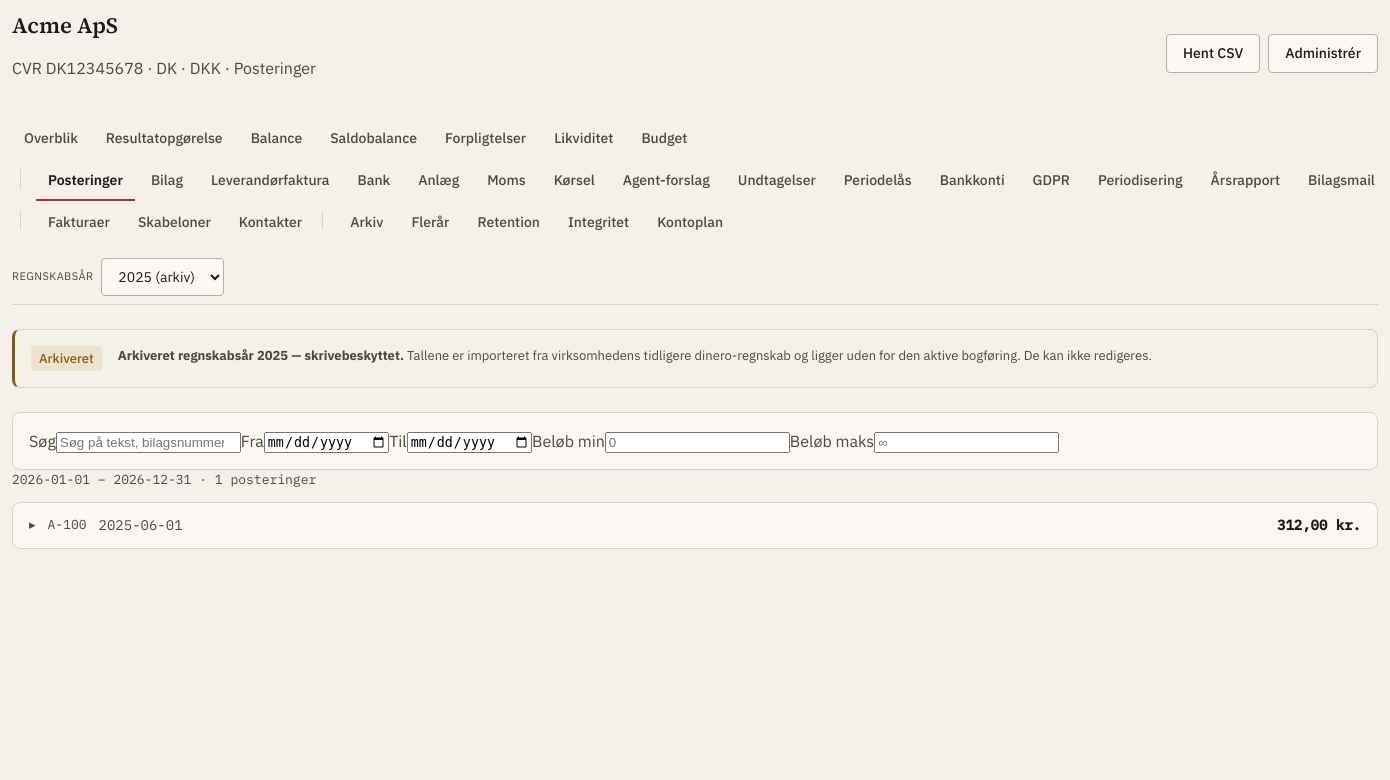
Test case: JournalView — #396 filter-bar › #379 — arkiveret år crasher ikke og viser 'Intet bilag' selv hvis documentId er sat
The image size is (1390, 780).
Click the button named "Arkiveret bilag" at {"x": 67, "y": 525}, box [13,503,1377,548]
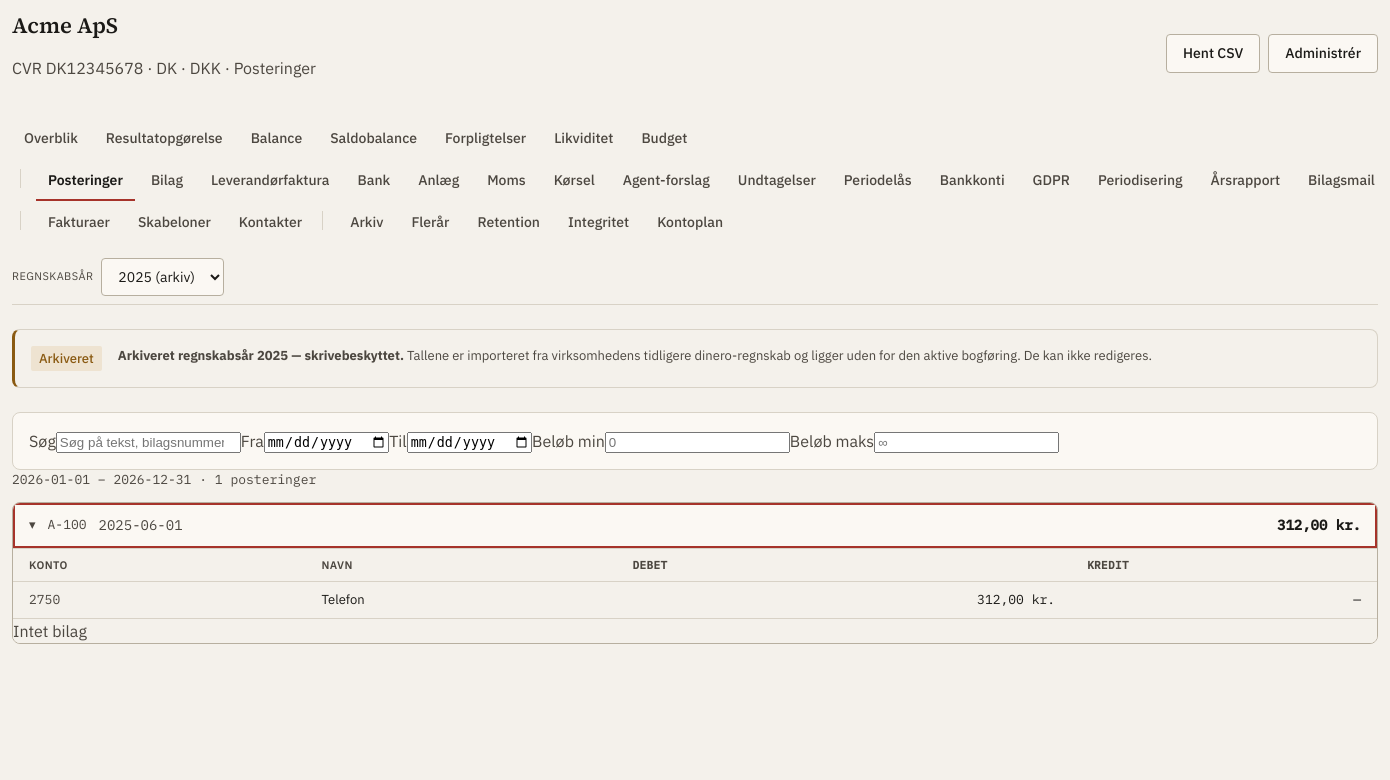
Expected: the text "Intet bilag" is shown, [13,621,87,641]
